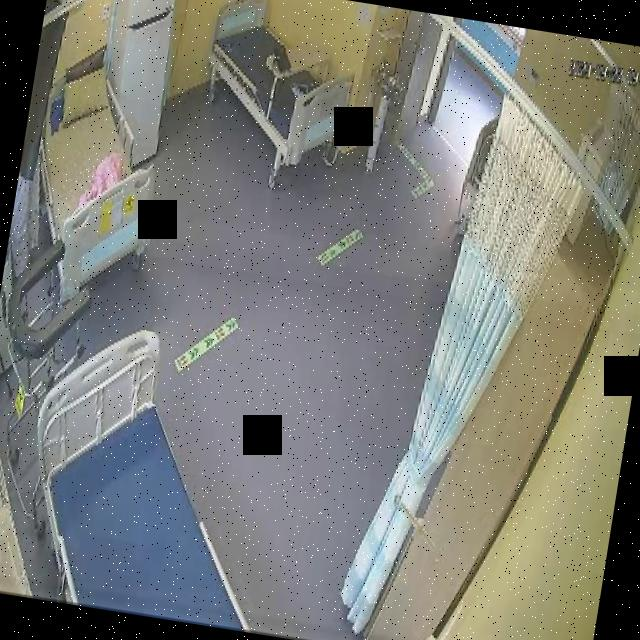bed: (10, 317, 292, 630), (17, 50, 180, 298), (191, 0, 366, 175)
walker: (0, 228, 105, 480)
